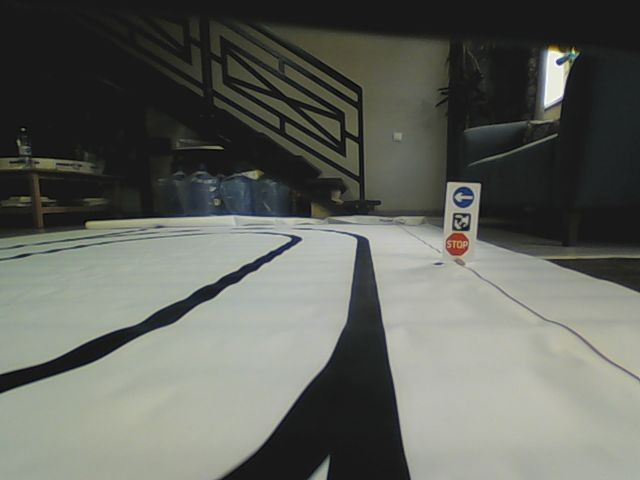Stop: (445, 231, 469, 257)
